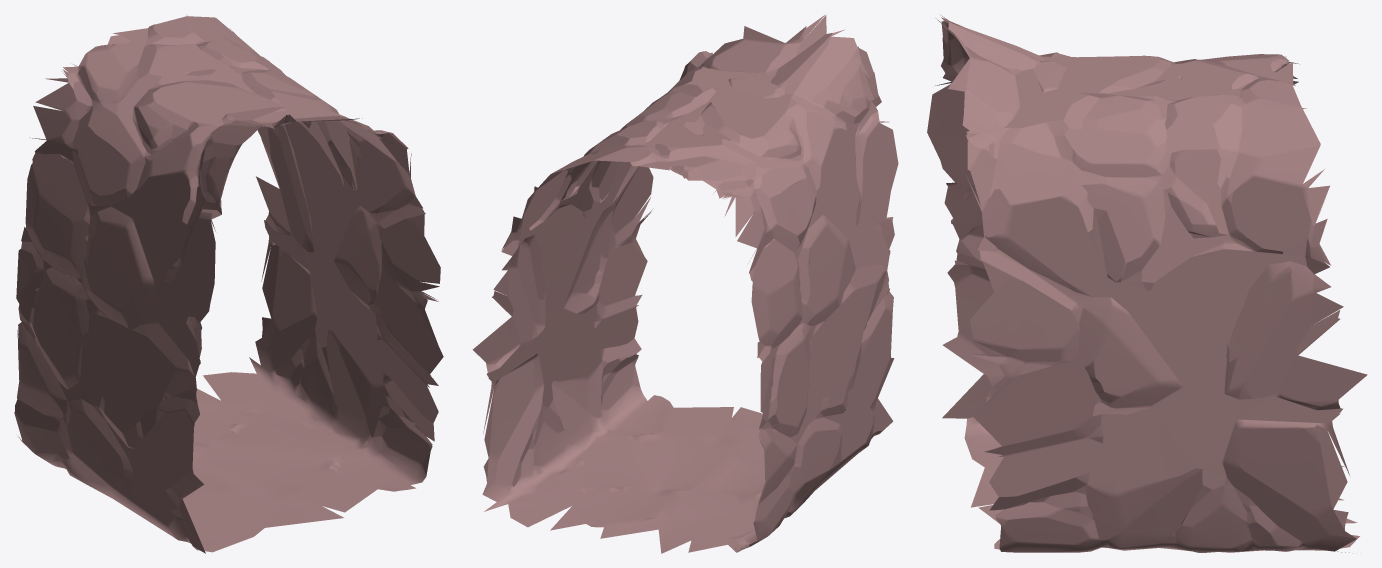
File: canyon.fbx_PolyShape__3__010LODs.fbx
3 views of the same model, side by side, from view 1: azimuth 30°, elevation 25°; view 2: azimuth 150°, elevation 25°; view 3: azimuth 270°, elevation 25° (orthographic). The views are drawn at different scales.
Parts seen in each view (by area): view 1: PolyShape (3).010_LOD0; view 2: PolyShape (3).010_LOD0; view 3: PolyShape (3).010_LOD0.
Boxes of the visible parts, bbox=[...] form: PolyShape (3).010_LOD0: bbox=[14, 14, 443, 553]; PolyShape (3).010_LOD0: bbox=[472, 14, 898, 553]; PolyShape (3).010_LOD0: bbox=[927, 15, 1367, 552].
Size of what is drawn, in the model's own units: 2894 by 4361 by 3802.
